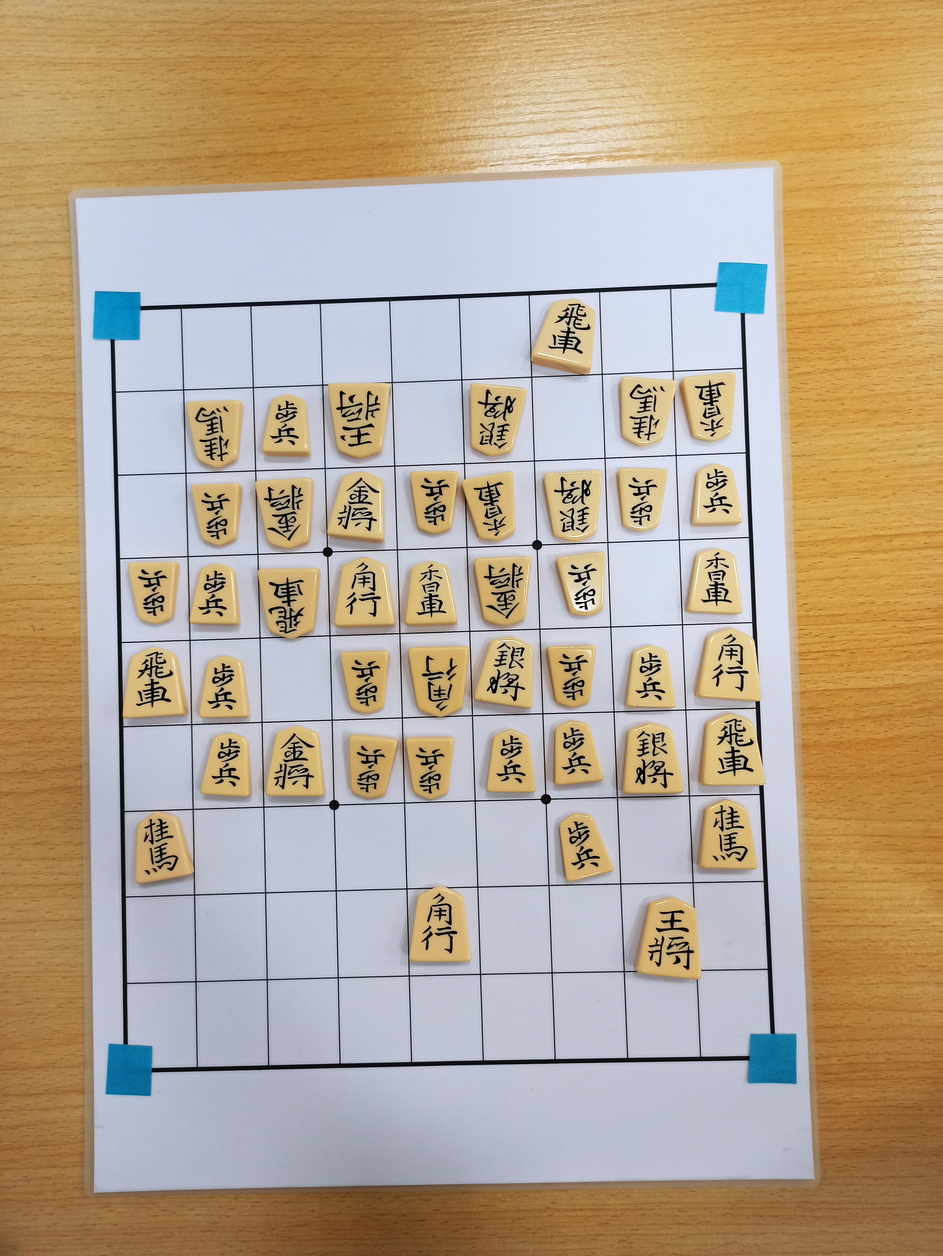board: (112, 283, 772, 1072)
